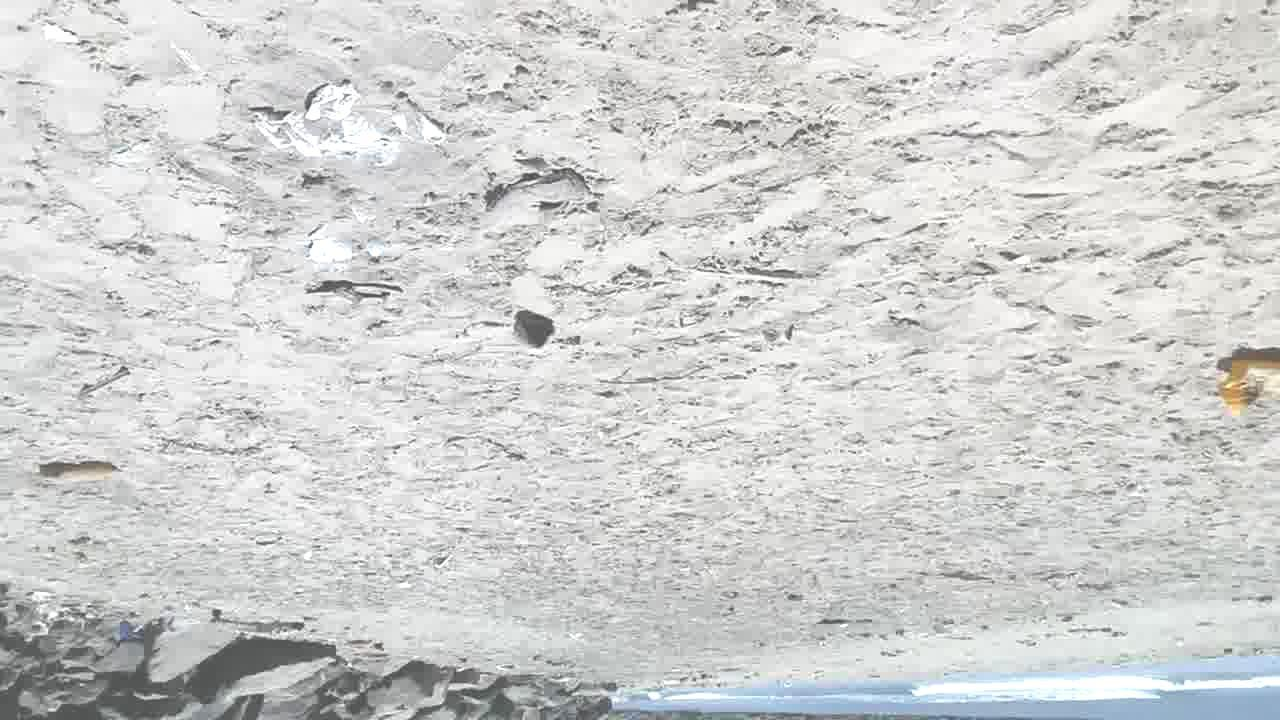obj: (246, 70, 448, 181), (483, 150, 602, 231), (298, 192, 390, 267), (1208, 348, 1279, 418), (32, 460, 124, 490), (508, 301, 556, 358)
sand/background: (1, 575, 1280, 719)
